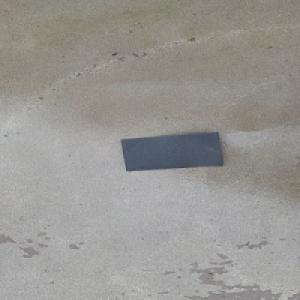PaintChip: (120, 131, 224, 172)
